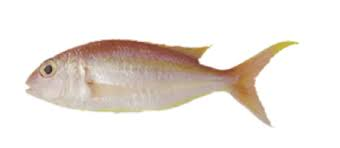Ikan Kerisi: (25, 40, 297, 112)
